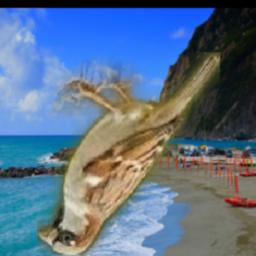Sparrow: (37, 53, 220, 256)
